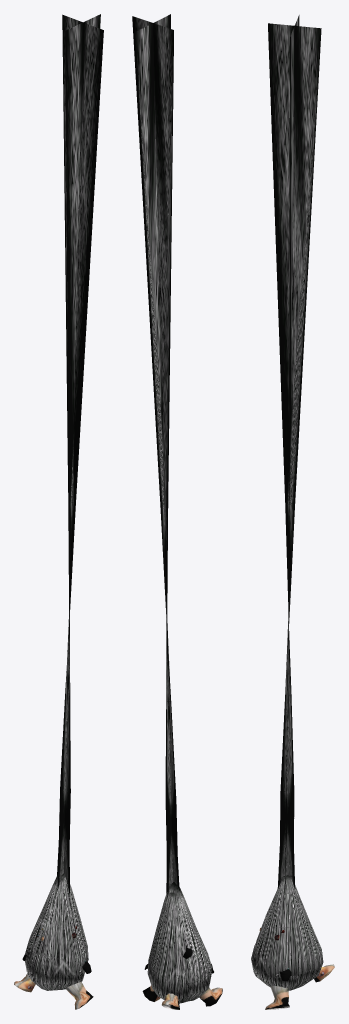
The model's file is CINE04_RESCUEDDWARVESFLEE_GROUP2 _SHOT00_COCOON.obj.
3 views of the same model, side by side, from view 1: azimuth 30°, elevation 25°; view 2: azimuth 210°, elevation 25°; view 3: azimuth 330°, elevation 25° (orthographic).
Parts seen in each view (by area): view 1: Plane05, Sphere18, Sphere20, Object53, Object45, Object55, Object54; view 2: Plane05, Sphere18, Sphere20, Object53, Object54, Object55, Object43; view 3: Plane05, Sphere18, Sphere20, Object53, Object55, Object45, Object54.
Part boxes in pixels (bbox=[...]): Plane05: bbox=[60, 14, 103, 792]; Sphere18: bbox=[25, 874, 88, 989]; Sphere20: bbox=[25, 953, 84, 990]; Object53: bbox=[57, 842, 69, 878]; Object45: bbox=[66, 982, 93, 1009]; Object55: bbox=[59, 788, 70, 818]; Object54: bbox=[58, 815, 70, 845]; Plane05: bbox=[132, 14, 176, 800]; Sphere18: bbox=[147, 882, 211, 1001]; Sphere20: bbox=[150, 892, 191, 1003]; Object53: bbox=[166, 851, 179, 887]; Object54: bbox=[166, 824, 177, 854]; Object55: bbox=[165, 797, 176, 827]; Object43: bbox=[199, 987, 222, 1006]; Plane05: bbox=[268, 15, 321, 793]; Sphere18: bbox=[255, 875, 314, 987]; Sphere20: bbox=[251, 885, 323, 990]; Object53: bbox=[278, 845, 294, 879]; Object55: bbox=[280, 791, 294, 820]; Object45: bbox=[265, 986, 289, 1009]; Object54: bbox=[280, 818, 293, 847].
Size of the model in its own units: 114 by 1391 by 104.
